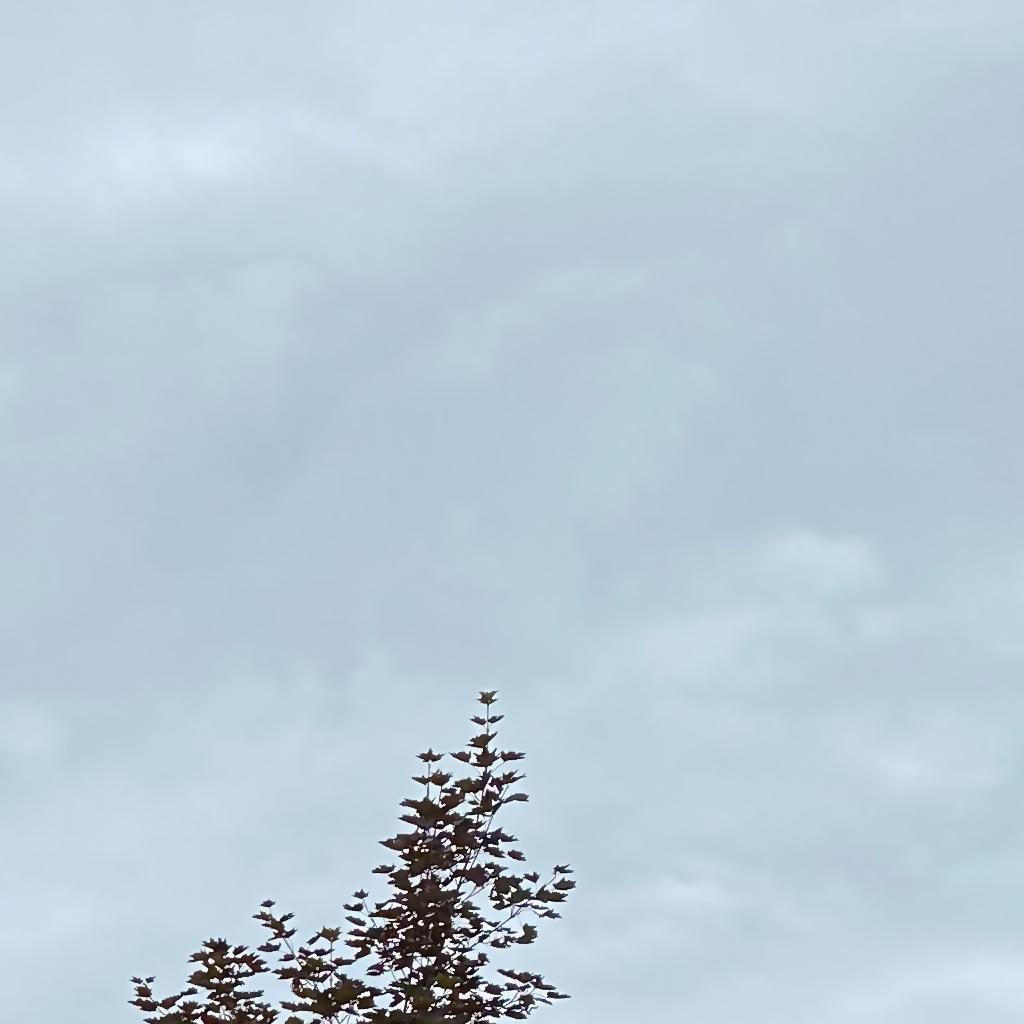tree: (126, 687, 576, 1024)
